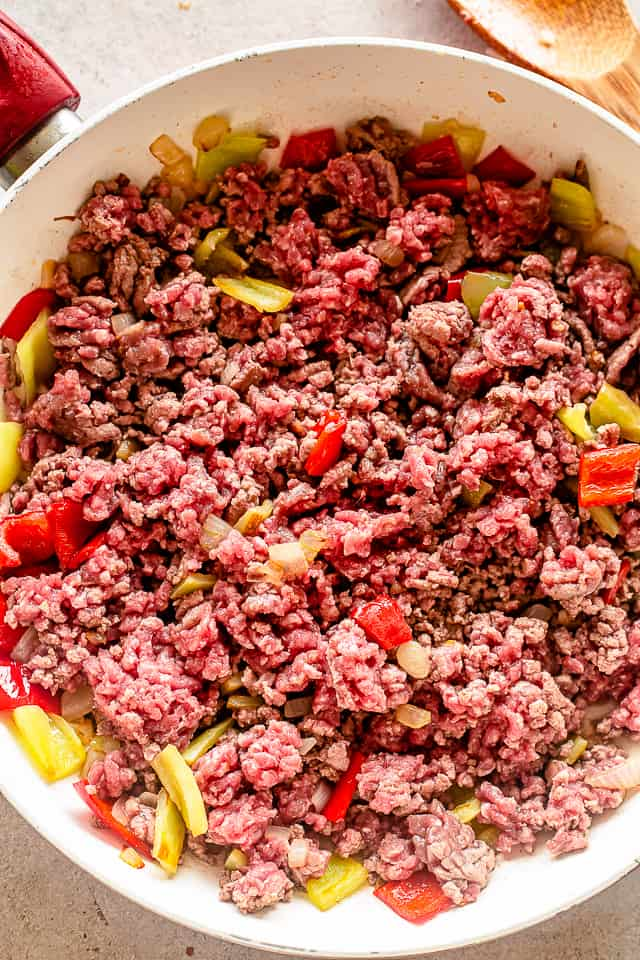ground_beef: (131, 224, 564, 619), (27, 412, 330, 739), (165, 634, 595, 829)
